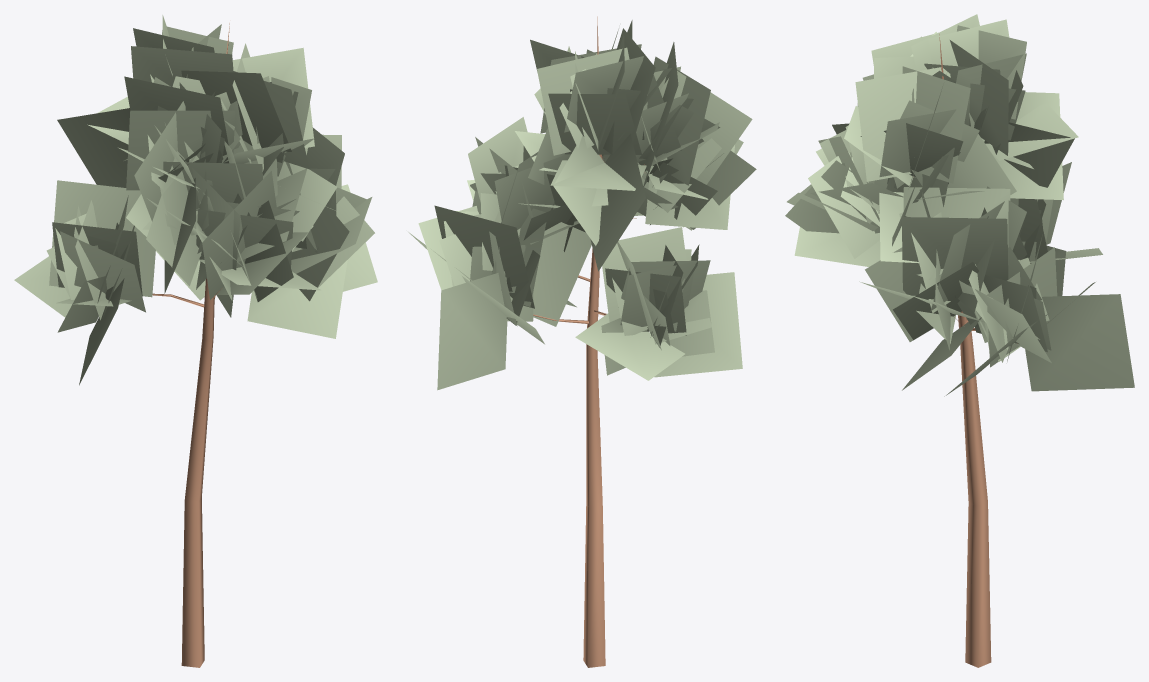
File: akamatsu_lo.glb
3 renders of one model, left to right at view 1: azimuth 30°, elevation 25°; view 2: azimuth 150°, elevation 25°; view 3: azimuth 270°, elevation 25°, orthographic. The views are drawn at different scales.
Bounding box in the file's own units: 9.88 × 20 × 9.91.
